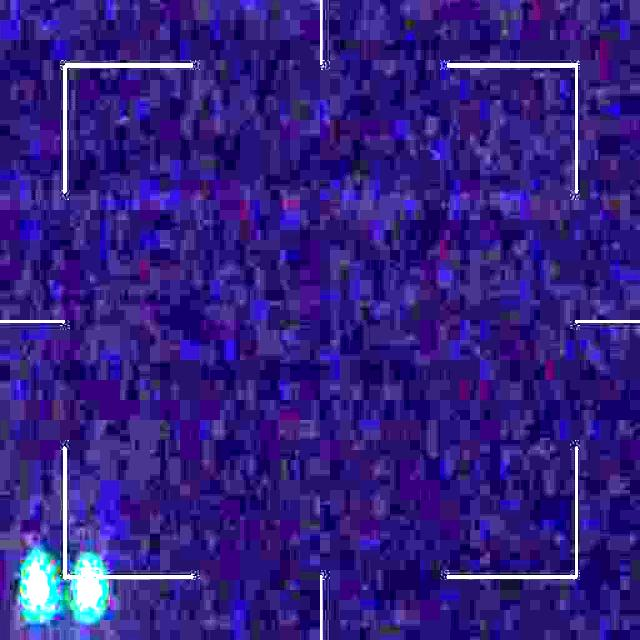bird: (24, 561, 102, 609)
